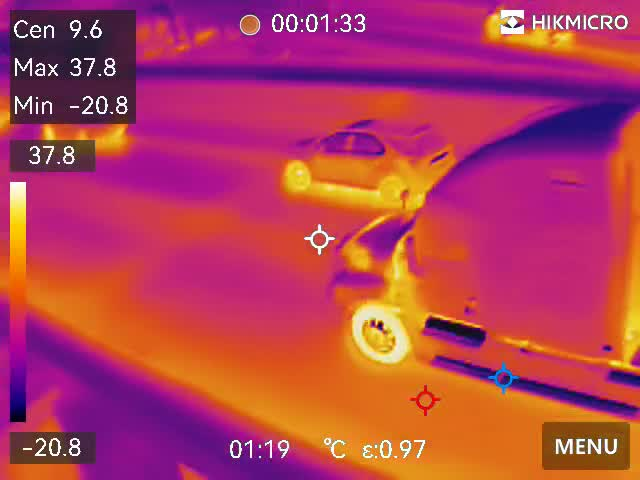heavyTruck: (316, 102, 640, 444)
largeCar: (268, 105, 457, 204)
